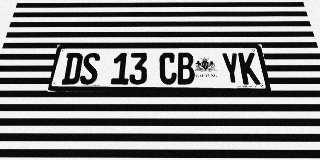1: (111, 53, 130, 84)
3: (129, 53, 147, 84)
B: (177, 53, 195, 84)
C: (159, 53, 177, 84)
D: (61, 53, 83, 84)
K: (238, 52, 261, 84)
S: (79, 53, 100, 84)
Y: (221, 53, 242, 84)
